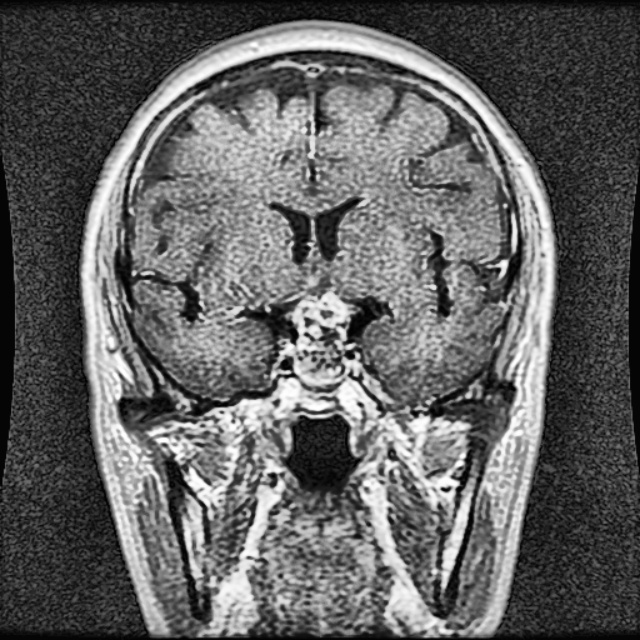Pituitary: (293, 297, 347, 384)
